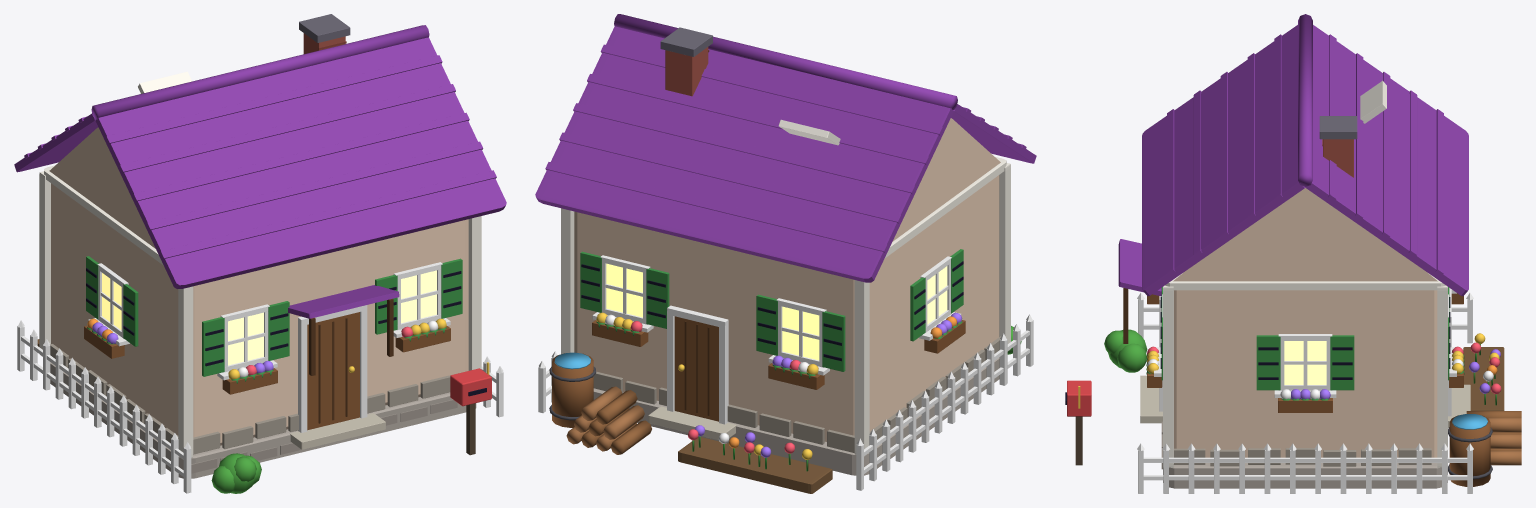
The model's file is domek3.glb.
3 views of the same model, side by side, from view 1: azimuth 30°, elevation 25°; view 2: azimuth 150°, elevation 25°; view 3: azimuth 270°, elevation 25° (orthographic). The views are drawn at different scales.
Visible parts, largest first — view 1: domek3; view 2: domek3; view 3: domek3.
Part boxes in pixels (x1=…): domek3: x1=14, y1=14, x2=506, y2=493; domek3: x1=535, y1=14, x2=1036, y2=493; domek3: x1=1065, y1=14, x2=1521, y2=493.
Size of the model in its own units: 5.54 by 5.43 by 6.65.
Materials: 2 (2 with a texture image).
